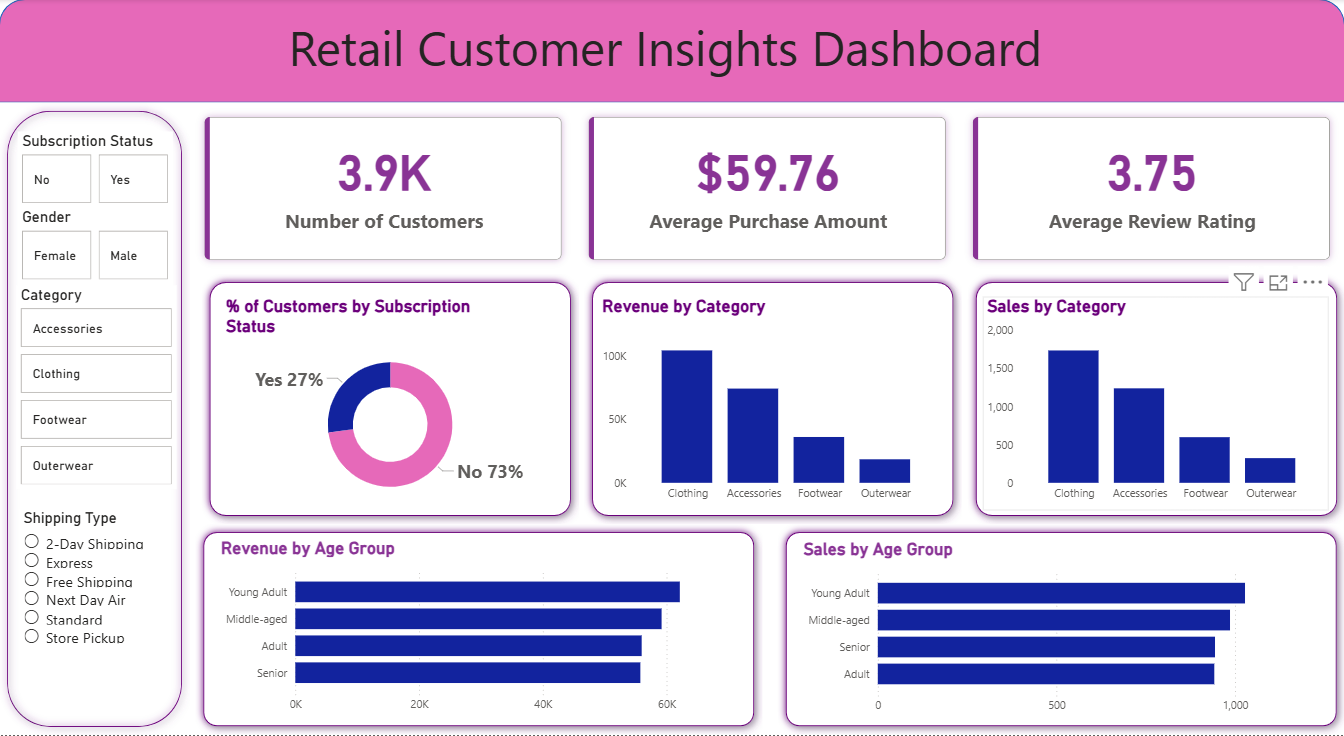

What the dashboard file says about the page in this screenshot:
{"tool":"powerbi","page":{"name":"Page 1","canvas":[1500,820],"ordinal":0},"visuals":[{"type":"cardVisual","fields":{"Data":["public customer.Number of Customers","public customer.Average Purchase Amount","public customer.Average Review Rating"]},"box":[212.9,115.3,1286.5,191.6],"z":2000},{"type":"shape","box":[218.3,585.6,631.7,234.2],"z":2500,"group":"g1"},{"type":"shape","box":[0,0,1499.4,115.3],"z":3000},{"type":"textbox","box":[0,12.4,1499.4,102.9],"z":4000},{"type":"shape","box":[225.4,307,420.5,278.6],"z":5000},{"type":"donutChart","title":"% of Customers by Subscription Status","fields":{"Category":["public customer.subscription_status"],"Y":["CountNonNull(public customer.customer_id)"]},"box":[248.4,331.8,376.2,237.8],"z":6000},{"type":"shape","box":[1078.9,307,420.5,278.6],"z":7000},{"type":"shape","box":[652.1,307,420.5,278.6],"z":8000},{"type":"clusteredColumnChart","title":"Revenue by Category","fields":{"Y":["Sum(public customer.purchase_amount)"],"Category":["public customer.category"]},"box":[667.2,331.8,385.1,237.8],"z":9000},{"type":"clusteredColumnChart","title":"Sales by Category","fields":{"Y":["CountNonNull(public customer.customer_id)"],"Category":["public customer.category"]},"box":[1096.6,331.8,385.1,237.8],"z":10000},{"type":"shape","box":[0,115.3,212.9,704.5],"z":11000},{"type":"advancedSlicerVisual","fields":{"Values":["public customer.subscription_status"]},"box":[21.4,147.1,172.9,85.7],"z":12000},{"type":"advancedSlicerVisual","fields":{"Values":["public customer.gender"]},"box":[21.4,232.9,172.9,85.7],"z":13000},{"type":"advancedSlicerVisual","fields":{"Values":["public customer.category"]},"box":[20,318.6,178.6,227.1],"z":14000},{"type":"listSlicer","fields":{"Values":["public customer.shipping_type"]},"box":[22.9,568.6,168.6,202.9],"z":15000},{"type":"shape","box":[867.7,585.6,631.7,234.2],"z":16000},{"type":"clusteredBarChart","title":"Sales by Age Group","fields":{"Y":["CountNonNull(public customer.customer_id)"],"Category":["public customer.age_group"]},"box":[890.8,601.5,585.6,204.1],"z":17000},{"type":"clusteredBarChart","title":"Revenue by Age Group","fields":{"Y":["Sum(public customer.purchase_amount)"],"Category":["public customer.age_group"]},"box":[241.4,601.6,585.6,204.1],"z":17500,"group":"g1"},{"type":"group","id":"g1","title":"Group 1","box":[218.3,585.6,631.7,234.2],"z":17501}]}

Visuals, with their boxes in screenshot pixels (x1, y1, x2, y2), scaled from the page's 1500x820 canvas onto the 1344x736 screenshot:
cardVisual - public customer.Number of Customers x public customer.Average Purchase Amount: (x1=191, y1=103, x2=1343, y2=275)
shape: (x1=196, y1=526, x2=762, y2=735)
shape: (x1=0, y1=0, x2=1343, y2=103)
textbox: (x1=0, y1=11, x2=1343, y2=103)
shape: (x1=202, y1=276, x2=579, y2=526)
"% of Customers by Subscription Status" donutChart: (x1=223, y1=298, x2=560, y2=511)
shape: (x1=967, y1=276, x2=1343, y2=526)
shape: (x1=584, y1=276, x2=961, y2=526)
"Revenue by Category" clusteredColumnChart: (x1=598, y1=298, x2=943, y2=511)
"Sales by Category" clusteredColumnChart: (x1=983, y1=298, x2=1328, y2=511)
shape: (x1=0, y1=103, x2=191, y2=735)
advancedSlicerVisual - public customer.subscription_status: (x1=19, y1=132, x2=174, y2=209)
advancedSlicerVisual - public customer.gender: (x1=19, y1=209, x2=174, y2=286)
advancedSlicerVisual - public customer.category: (x1=18, y1=286, x2=178, y2=490)
listSlicer - public customer.shipping_type: (x1=21, y1=510, x2=172, y2=692)
shape: (x1=777, y1=526, x2=1343, y2=735)
"Sales by Age Group" clusteredBarChart: (x1=798, y1=540, x2=1323, y2=723)
"Revenue by Age Group" clusteredBarChart: (x1=216, y1=540, x2=741, y2=723)
"Group 1" group: (x1=196, y1=526, x2=762, y2=735)
